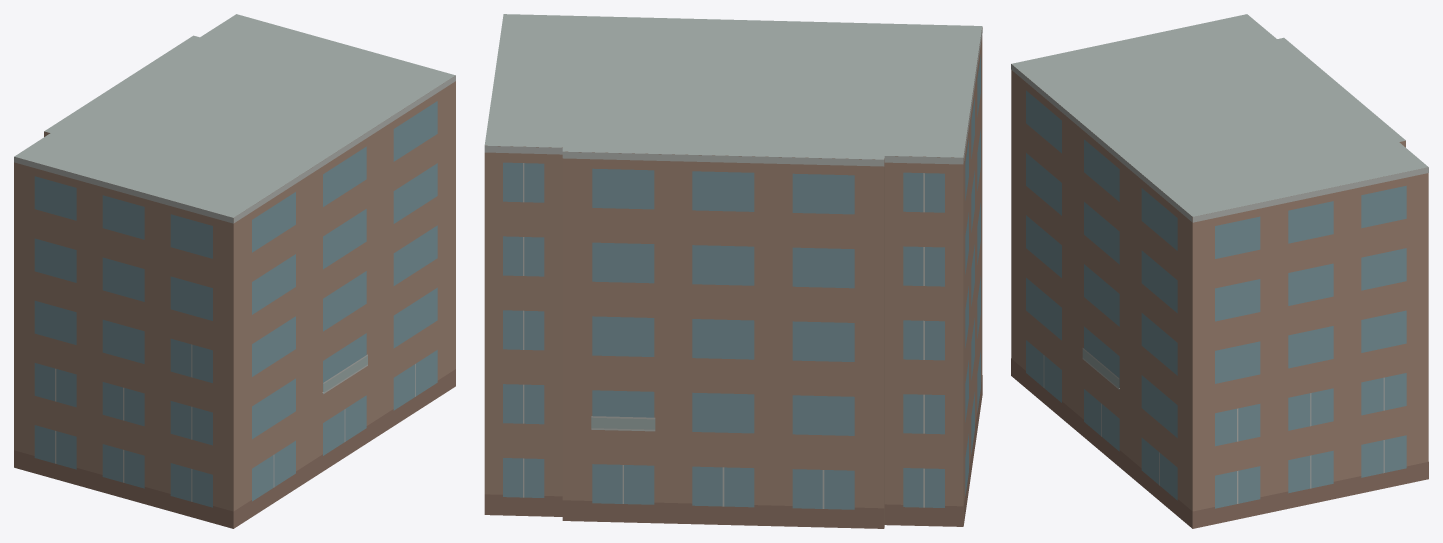
Rendered from survey-upis-32949477.glb.
3 renders of one model, left to right at view 1: azimuth 30°, elevation 25°; view 2: azimuth 150°, elevation 25°; view 3: azimuth 270°, elevation 25°, orthographic. The views are drawn at different scales.
Parts seen in each view (by area): view 1: survey-upis-32949477.tmp; view 2: survey-upis-32949477.tmp; view 3: survey-upis-32949477.tmp.
Part boxes in pixels (x1,y1,x2,y2): survey-upis-32949477.tmp: [14, 14, 455, 528]; survey-upis-32949477.tmp: [484, 14, 982, 528]; survey-upis-32949477.tmp: [1011, 14, 1428, 528].
Size of the model in its own units: 18.42 by 13.2 by 16.02.
